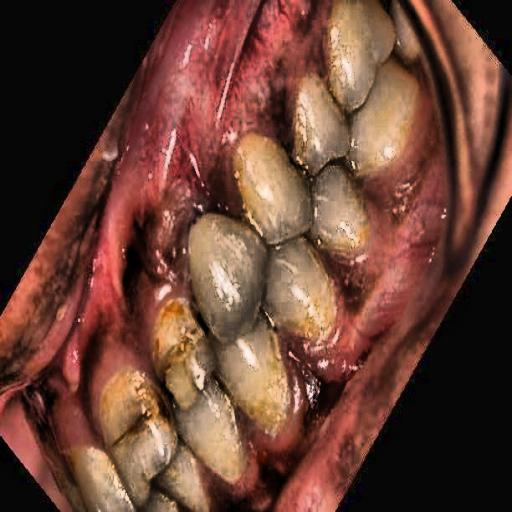Calculus: (75, 273, 242, 492), (218, 73, 340, 262), (258, 282, 372, 456)
